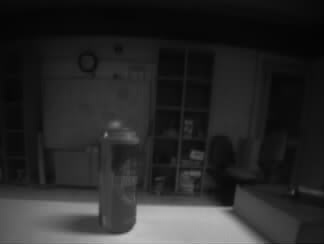Tin can: (98, 128, 138, 230)
